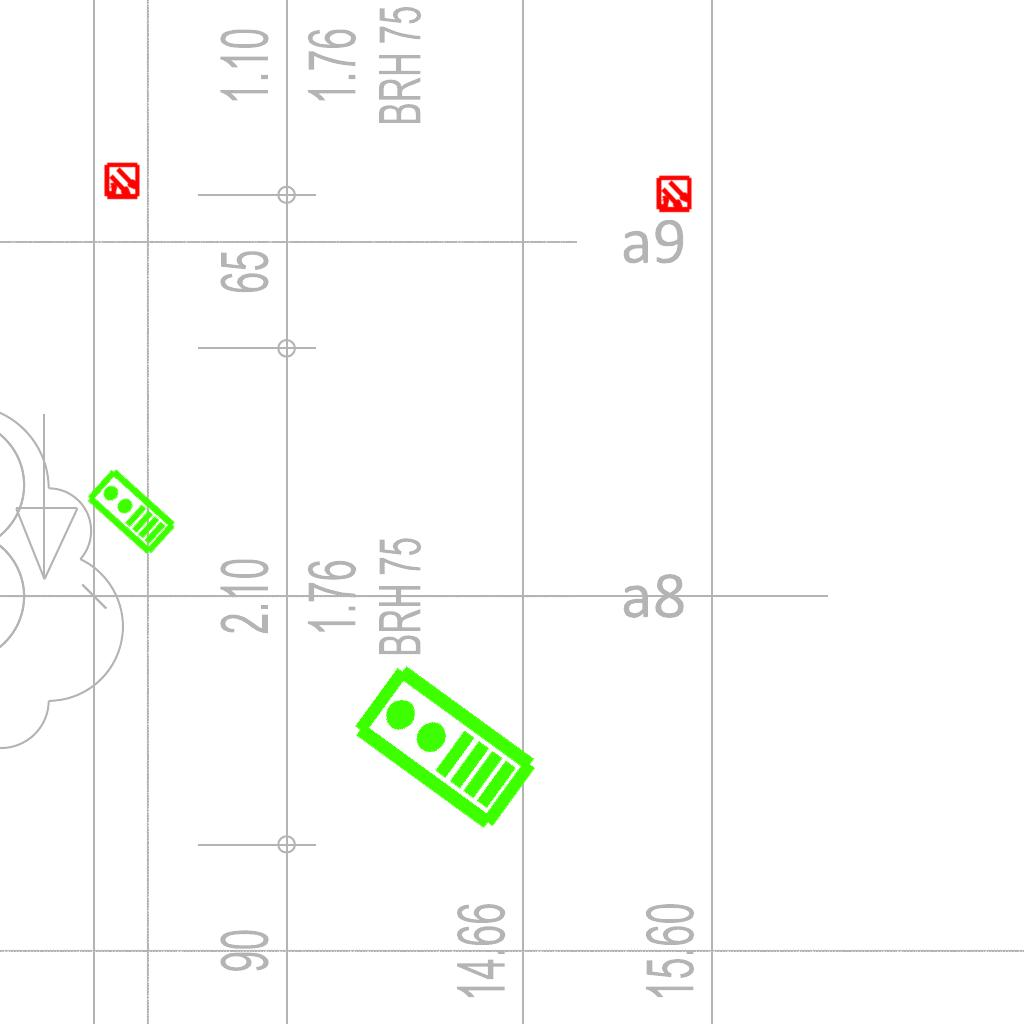Gegensprechanlage_mit_Video: (344, 657, 543, 839), (82, 465, 179, 559)
OT_Multisensormelder_(Kombination_RMO_WMD): (646, 167, 702, 223), (94, 154, 150, 210)
